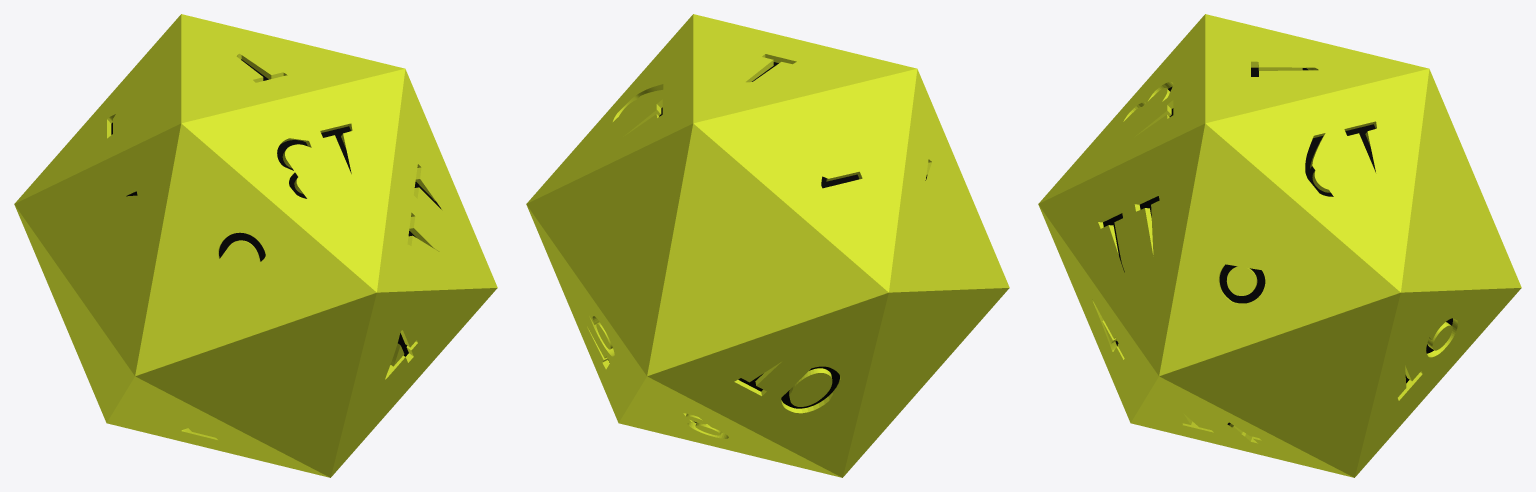
The picture shows the model from 3 angles, left to right: view 1: azimuth 30°, elevation 25°; view 2: azimuth 150°, elevation 25°; view 3: azimuth 270°, elevation 25°; orthographic projection.
Visible parts, largest first — view 1: Solid; view 2: Solid; view 3: Solid.
Part boxes in pixels (x1,y1,x2,y2): Solid: (14,14,497,477); Solid: (526,14,1009,477); Solid: (1038,14,1521,477).
Size of the model in its own units: 2216 by 2070 by 2559.
